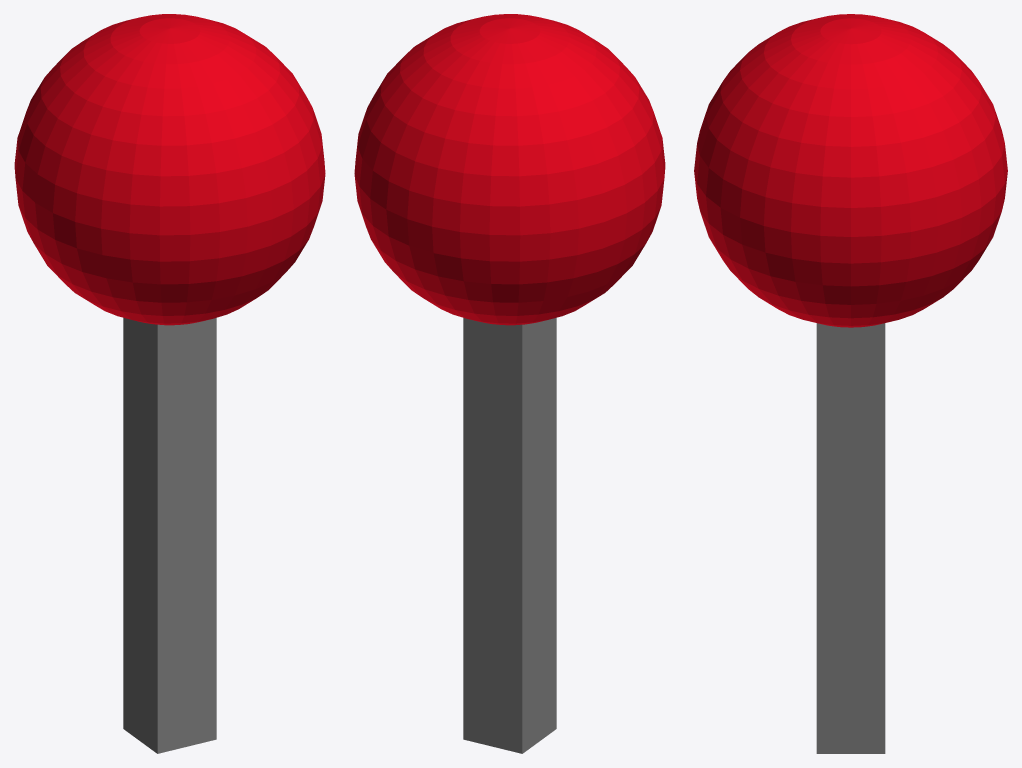
The model's file is Lever.fbx.
3 renders of one model, left to right at view 1: azimuth 30°, elevation 25°; view 2: azimuth 150°, elevation 25°; view 3: azimuth 270°, elevation 25°, orthographic.
Parts seen in each view (by area): view 1: Cube; view 2: Cube; view 3: Cube.
Part boxes in pixels (x1,y1,x2,y2): Cube: (14,14,325,753); Cube: (354,14,665,753); Cube: (694,14,1007,753).
Size of the model in its own units: 476 by 1190 by 476.
